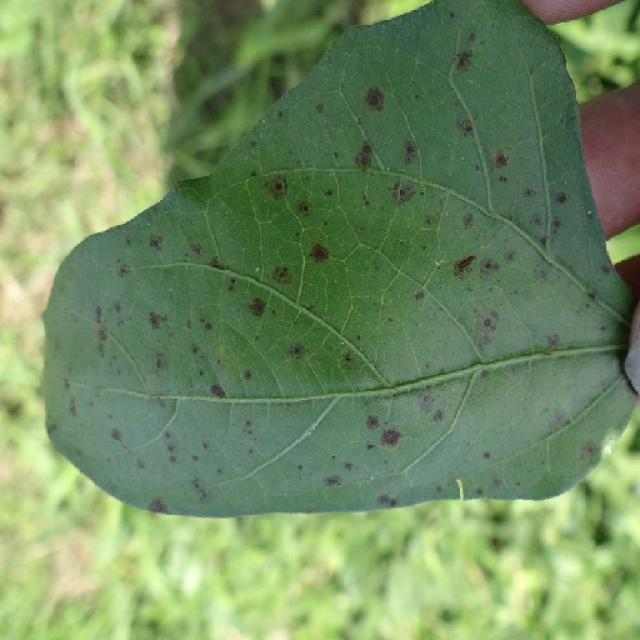Anthracnose: (298, 238, 337, 268), (353, 141, 376, 170), (363, 85, 386, 111), (392, 181, 415, 206), (266, 175, 289, 199), (453, 254, 477, 275), (380, 427, 402, 447), (403, 140, 419, 164), (148, 310, 167, 330), (248, 297, 266, 317), (272, 266, 291, 284), (365, 414, 382, 431), (289, 342, 306, 359), (322, 474, 342, 487), (209, 384, 226, 399), (341, 351, 356, 368), (456, 54, 471, 70), (199, 315, 214, 331), (494, 153, 508, 169), (483, 260, 499, 272), (362, 142, 373, 155), (464, 123, 474, 135), (275, 181, 285, 192)
Blackgram: (44, 0, 634, 515)
